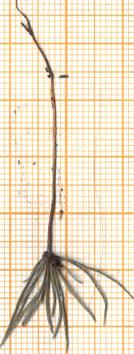flower: (0, 247, 133, 353)
root: (11, 2, 59, 74)
stem: (45, 76, 62, 253)
